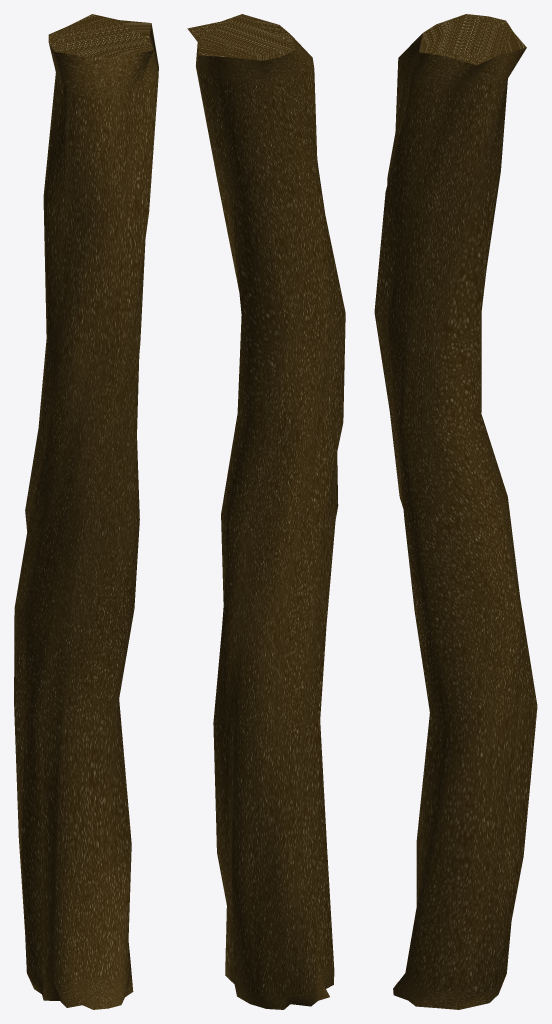
The model's file is ChewstickModel.FBX.
3 renders of one model, left to right at view 1: azimuth 30°, elevation 25°; view 2: azimuth 150°, elevation 25°; view 3: azimuth 270°, elevation 25°, orthographic. The views are drawn at different scales.
Visible parts, largest first — view 1: Cylinder001; view 2: Cylinder001; view 3: Cylinder001.
Boxes of the visible parts, x1,y1,x2,y2 form: Cylinder001: [14, 14, 158, 1009]; Cylinder001: [187, 14, 345, 1009]; Cylinder001: [374, 14, 537, 1009].
Bounding box in the file's own units: 6.36 × 43.44 × 6.65.
